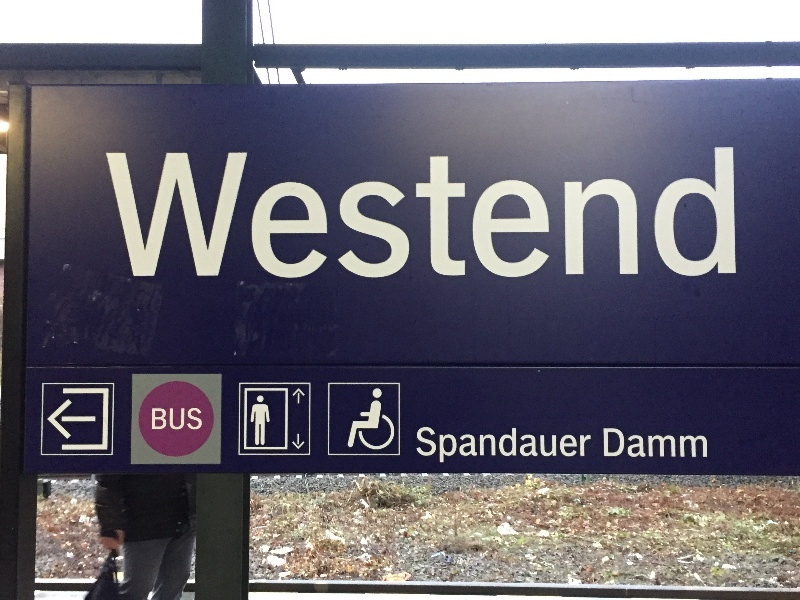text: (721, 147, 737, 281), (113, 147, 128, 281), (129, 147, 144, 281), (145, 147, 160, 281), (161, 147, 176, 281), (177, 147, 192, 281), (193, 147, 208, 281), (209, 147, 224, 281), (225, 147, 240, 281), (241, 147, 256, 281), (257, 147, 272, 281), (273, 147, 288, 281), (289, 147, 304, 281), (305, 147, 320, 281), (321, 147, 336, 281), (337, 147, 352, 281), (353, 147, 368, 281), (369, 147, 384, 281), (385, 147, 400, 281), (401, 147, 416, 281), (417, 147, 432, 281), (433, 147, 448, 281), (449, 147, 464, 281), (465, 147, 480, 281), (481, 147, 496, 281), (497, 147, 512, 281), (513, 147, 528, 281), (529, 147, 544, 281), (545, 147, 560, 281), (561, 147, 576, 281), (577, 147, 592, 281), (593, 147, 608, 281), (609, 147, 624, 281), (625, 147, 640, 281), (641, 147, 656, 281), (657, 147, 672, 281), (673, 147, 688, 281), (689, 147, 704, 281), (705, 147, 720, 281), (105, 147, 112, 281), (417, 423, 432, 465), (433, 423, 448, 465), (449, 423, 464, 465), (465, 423, 480, 465), (481, 423, 496, 465), (497, 423, 512, 465), (513, 423, 528, 465), (529, 423, 544, 465), (545, 423, 560, 465), (561, 423, 576, 465), (577, 423, 592, 465), (609, 427, 624, 462), (625, 427, 640, 462), (641, 427, 656, 462), (657, 427, 672, 462), (673, 427, 688, 462), (689, 427, 704, 462), (161, 408, 176, 431), (177, 408, 192, 431), (193, 408, 203, 431), (151, 408, 160, 431), (603, 427, 608, 462), (705, 427, 709, 462)
